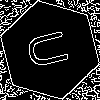U: (25, 25, 79, 72)
